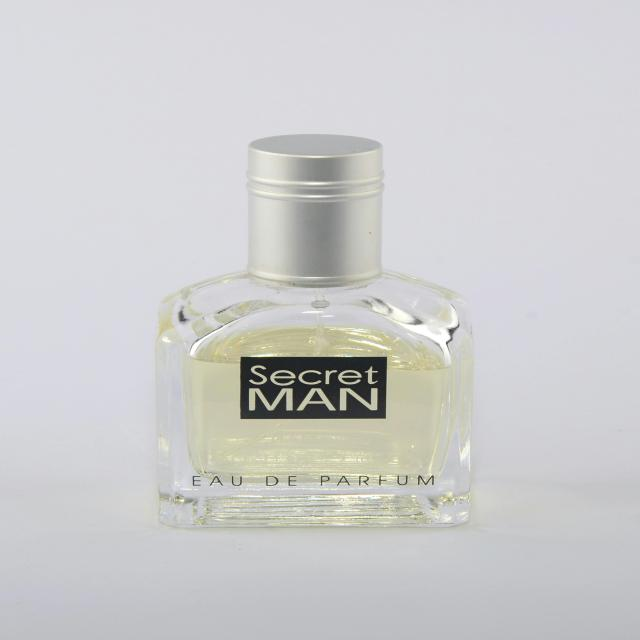electronic: (153, 135, 490, 542)
